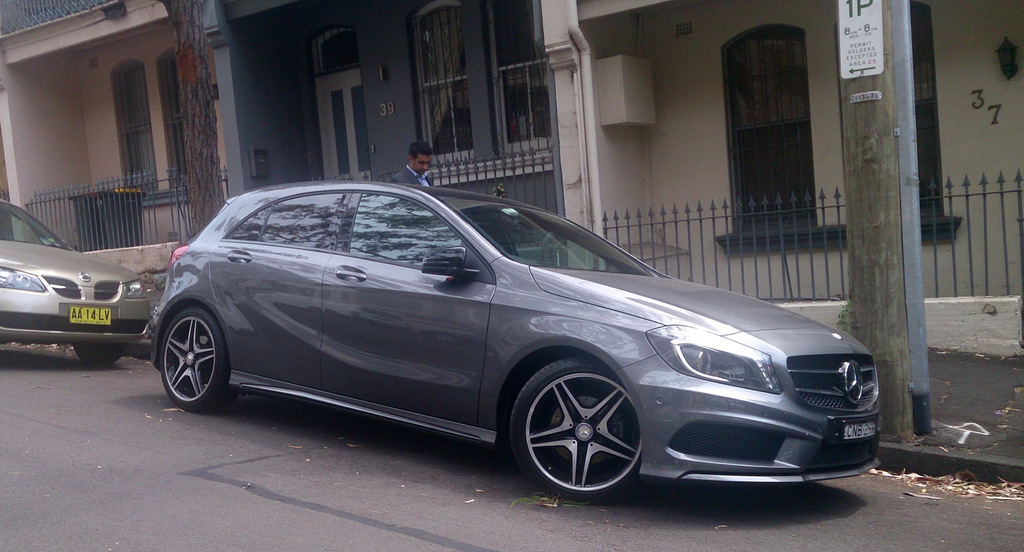Car: (150, 180, 881, 502), (0, 197, 150, 367)
